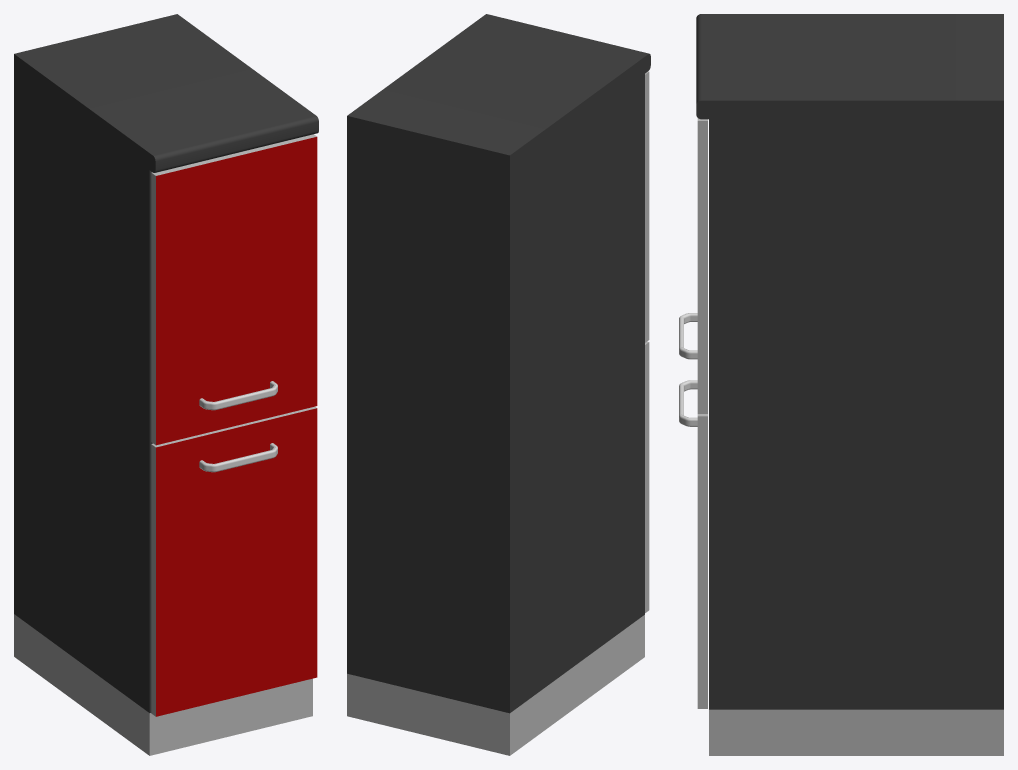
File: mobilettoPiccolo.obj
3 renders of one model, left to right at view 1: azimuth 30°, elevation 25°; view 2: azimuth 150°, elevation 25°; view 3: azimuth 270°, elevation 25°, orthographic. The views are drawn at different scales.
Parts seen in each view (by area): view 1: Box67_6, Box662_2, Box692_10, Line70_5, Box68_7, Box663_3, Box693_11, Loft26_4, Loft27_8, Box69_9; view 2: Box67_6, Line70_5, Box68_7, Box693_11, Box663_3; view 3: Box67_6, Line70_5, Box68_7, Box663_3, Box693_11.
Part boxes in pixels (bbox=[...]): Box67_6: bbox=[14, 67, 152, 712]; Box662_2: bbox=[156, 408, 317, 716]; Box692_10: bbox=[156, 137, 317, 445]; Line70_5: bbox=[14, 14, 318, 172]; Box68_7: bbox=[14, 614, 312, 755]; Box663_3: bbox=[151, 444, 155, 716]; Box693_11: bbox=[151, 173, 155, 444]; Loft26_4: bbox=[199, 443, 277, 472]; Loft27_8: bbox=[199, 381, 277, 410]; Box69_9: bbox=[151, 134, 316, 175]; Box67_6: bbox=[347, 69, 644, 713]; Line70_5: bbox=[347, 14, 650, 172]; Box68_7: bbox=[347, 615, 644, 755]; Box693_11: bbox=[645, 72, 649, 342]; Box663_3: bbox=[645, 342, 649, 612]; Box67_6: bbox=[709, 114, 1003, 709]; Line70_5: bbox=[696, 14, 1003, 119]; Box68_7: bbox=[709, 709, 1003, 755]; Box663_3: bbox=[697, 416, 707, 708]; Box693_11: bbox=[697, 121, 707, 413].
Size of the model in its own units: 40 by 141 by 63.38.
